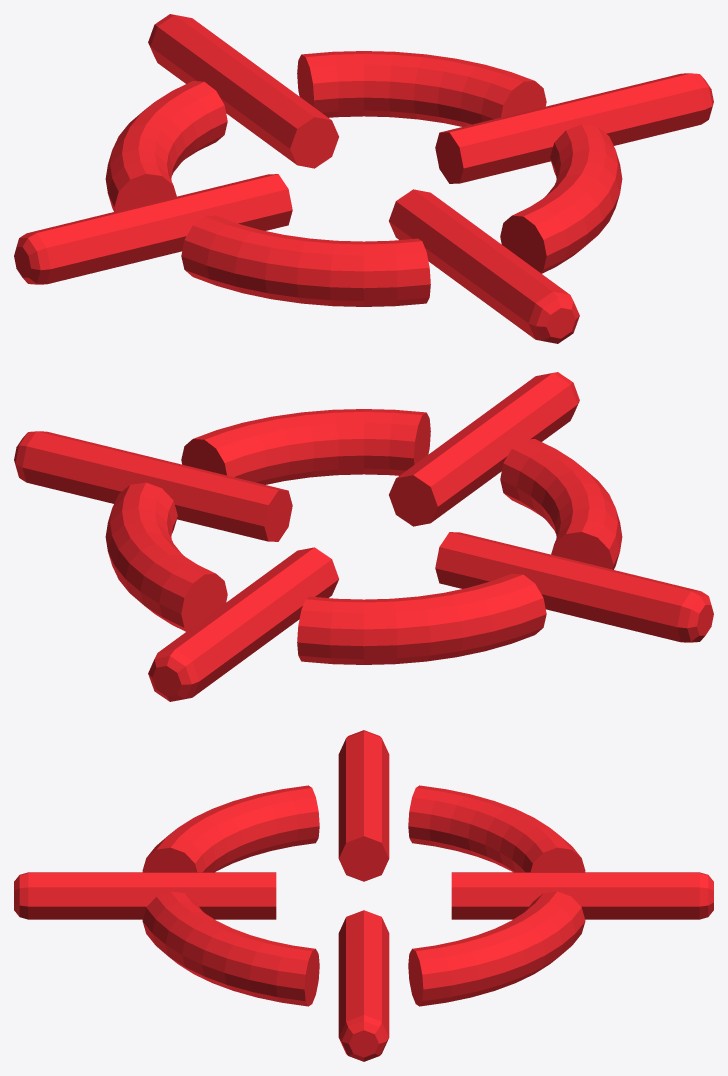
Rendered from Reticule.fbx.
3 views of the same model, one above another, from view 1: azimuth 30°, elevation 25°; view 2: azimuth 150°, elevation 25°; view 3: azimuth 270°, elevation 25° (orthographic). The views are drawn at different scales.
Parts seen in each view (by area): view 1: Reticule; view 2: Reticule; view 3: Reticule.
Boxes of the visible parts, x1,y1,x2,y2 form: Reticule: (14, 14, 713, 343); Reticule: (14, 372, 713, 701); Reticule: (14, 730, 713, 1061).
Bounding box in the file's own units: 336 × 336 × 28.
